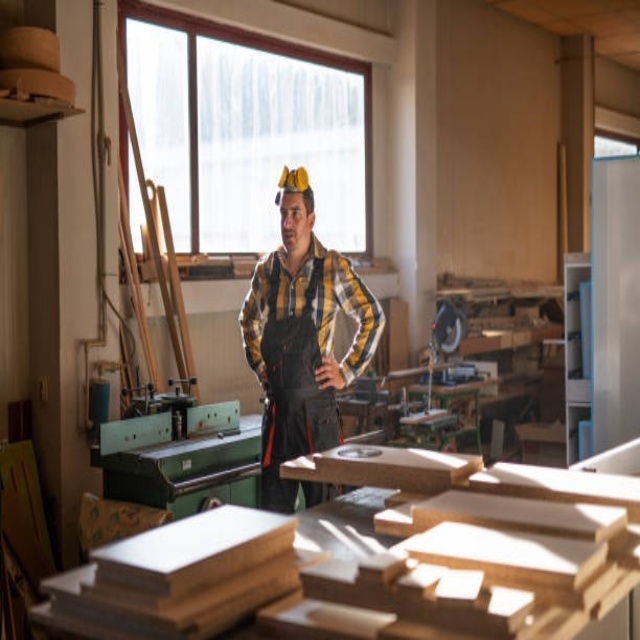Sin_gafas: (279, 208, 309, 222)
Sin_guantes: (315, 354, 344, 392)
Sin_mascara: (280, 224, 300, 249)
